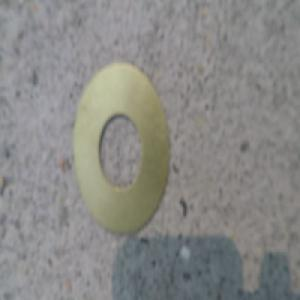Washer: (73, 65, 173, 246)
